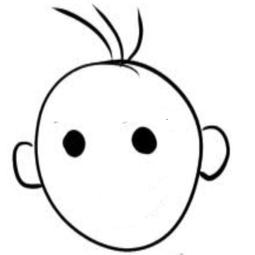ear: (196, 118, 239, 186), (10, 136, 48, 195)
eye: (122, 120, 167, 162), (61, 125, 90, 160)
